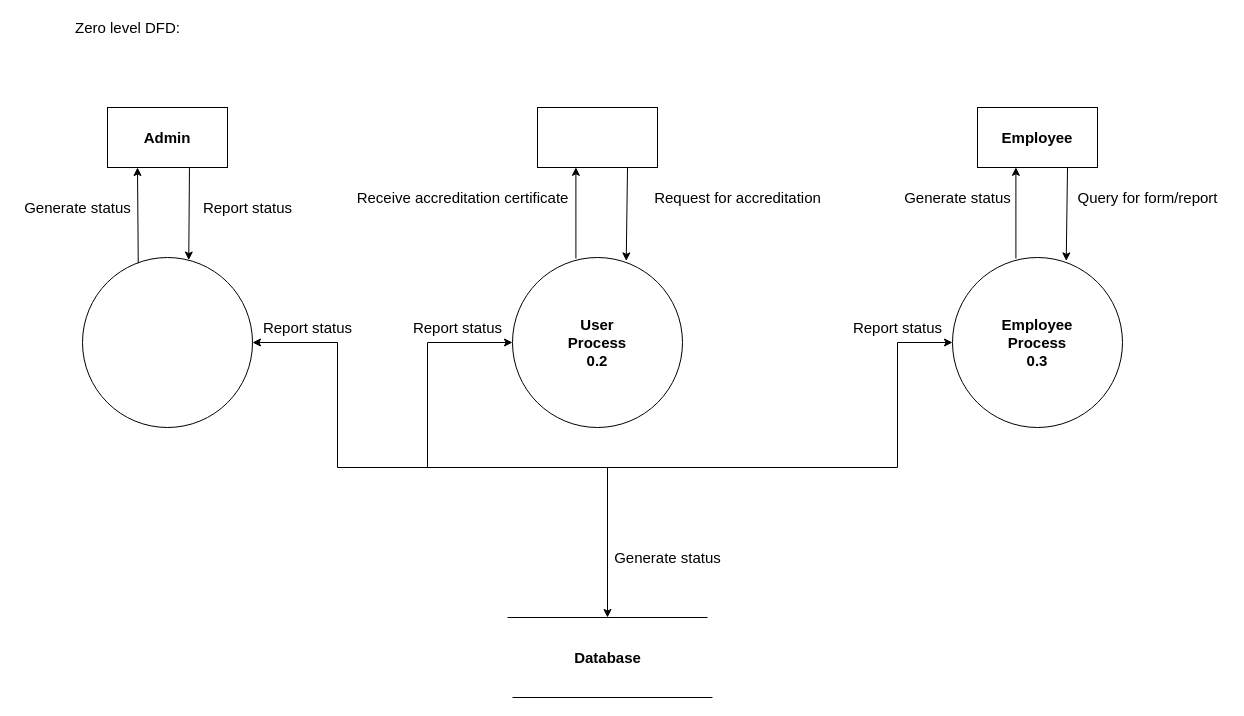
Image size: 1244x716. Some labels were removed from this diagram. Each missing label, with the box of its shape:
Admin Process 0.1: (82, 256, 252, 428)
User: (536, 106, 658, 168)
